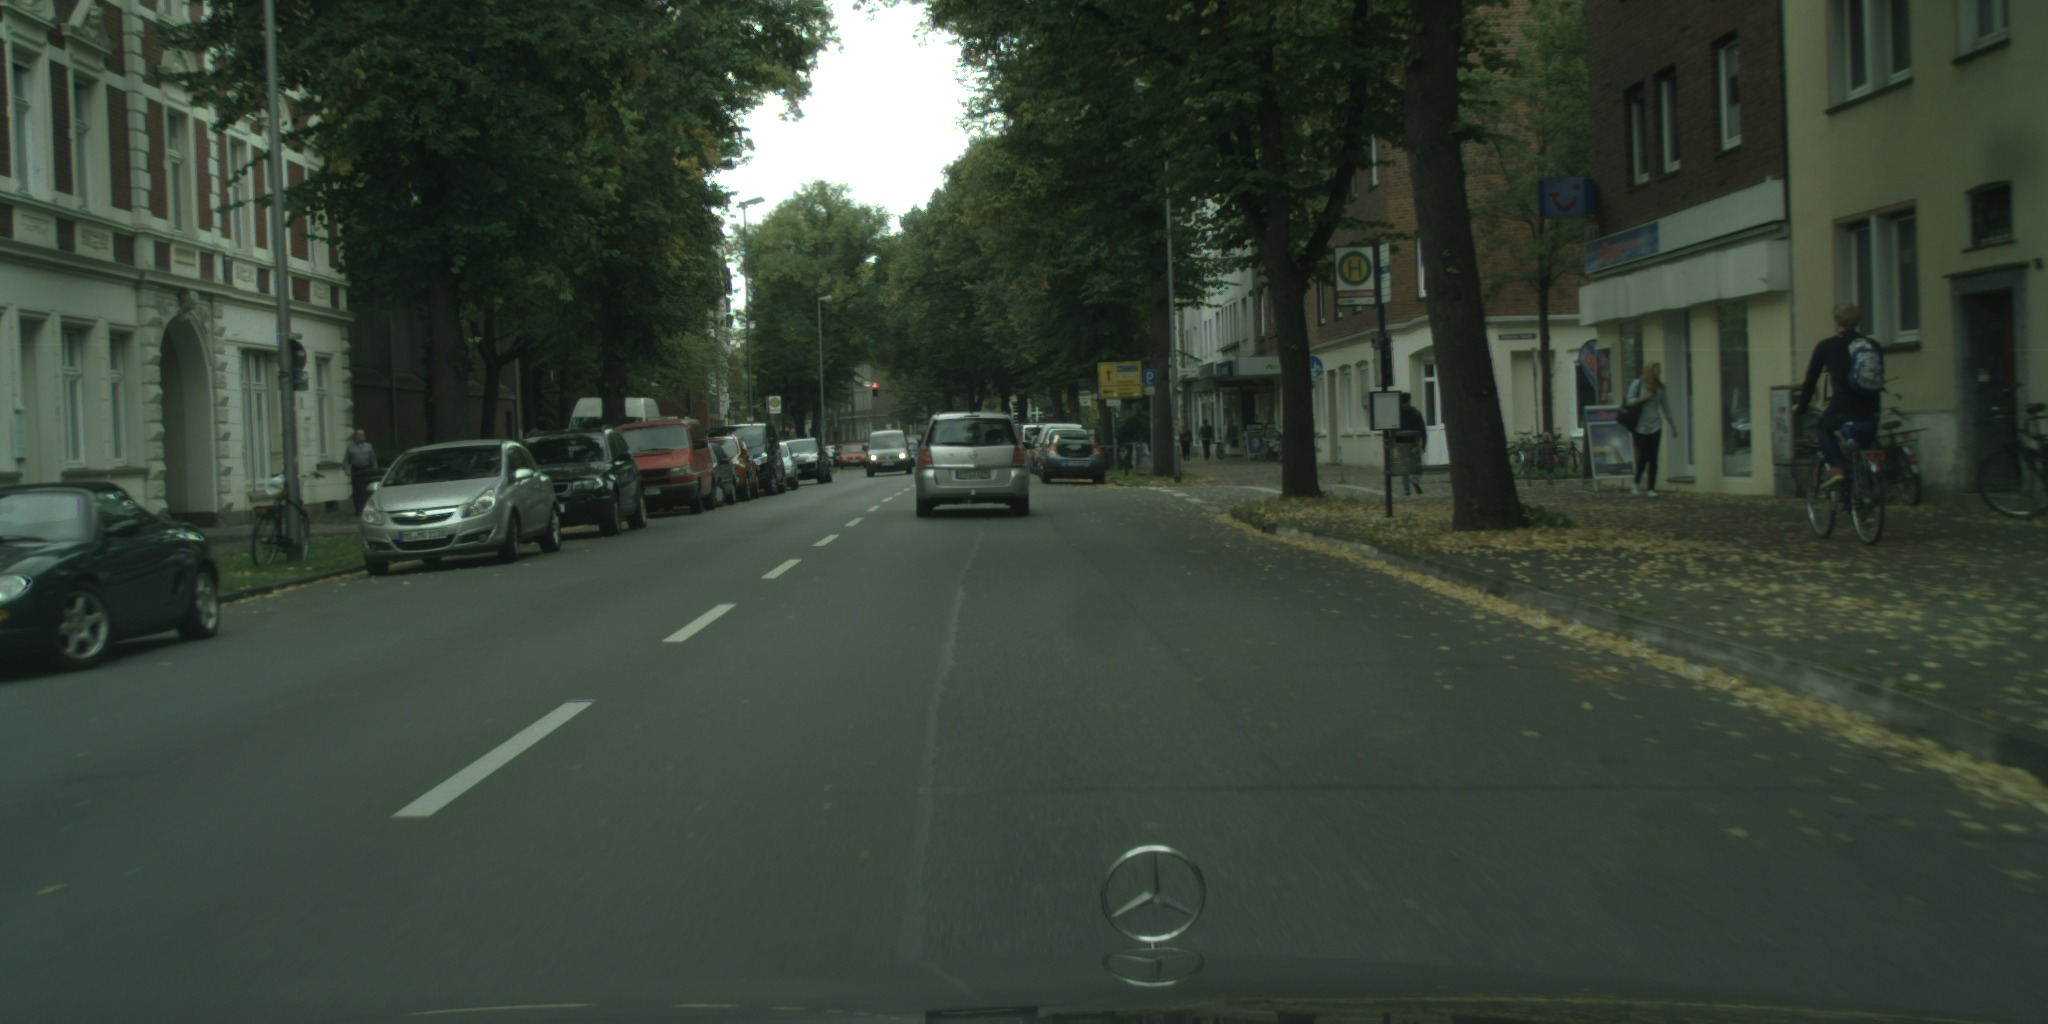bicycle: (1976, 380, 2048, 523), (1807, 420, 1887, 545), (249, 466, 325, 572), (1870, 403, 1928, 508), (1792, 417, 1844, 500), (1258, 433, 1287, 464)
car: (1, 480, 221, 671), (361, 439, 562, 576), (507, 429, 647, 538), (906, 408, 1038, 518), (598, 418, 717, 514), (706, 422, 787, 496), (565, 394, 666, 442), (706, 433, 762, 502), (1040, 431, 1106, 484), (1035, 428, 1096, 478), (1033, 422, 1086, 477), (695, 439, 736, 507), (779, 437, 832, 485), (862, 429, 913, 477), (769, 438, 799, 491), (1015, 422, 1052, 458), (1028, 432, 1054, 474), (837, 440, 868, 470)
person: (1616, 360, 1680, 498), (1387, 393, 1425, 499), (341, 429, 379, 520), (1197, 416, 1217, 463), (1179, 418, 1194, 462)
rider: (1790, 302, 1882, 526)
